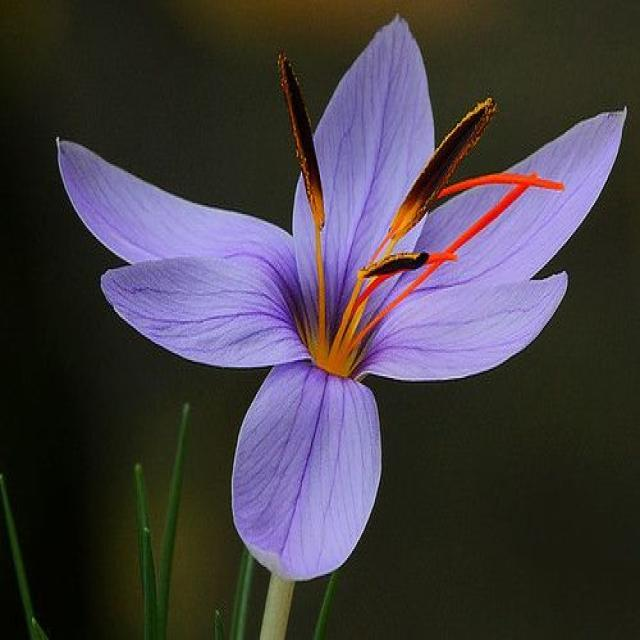Flower: (59, 15, 626, 577)
stigma: (333, 170, 545, 370), (413, 170, 571, 222)
